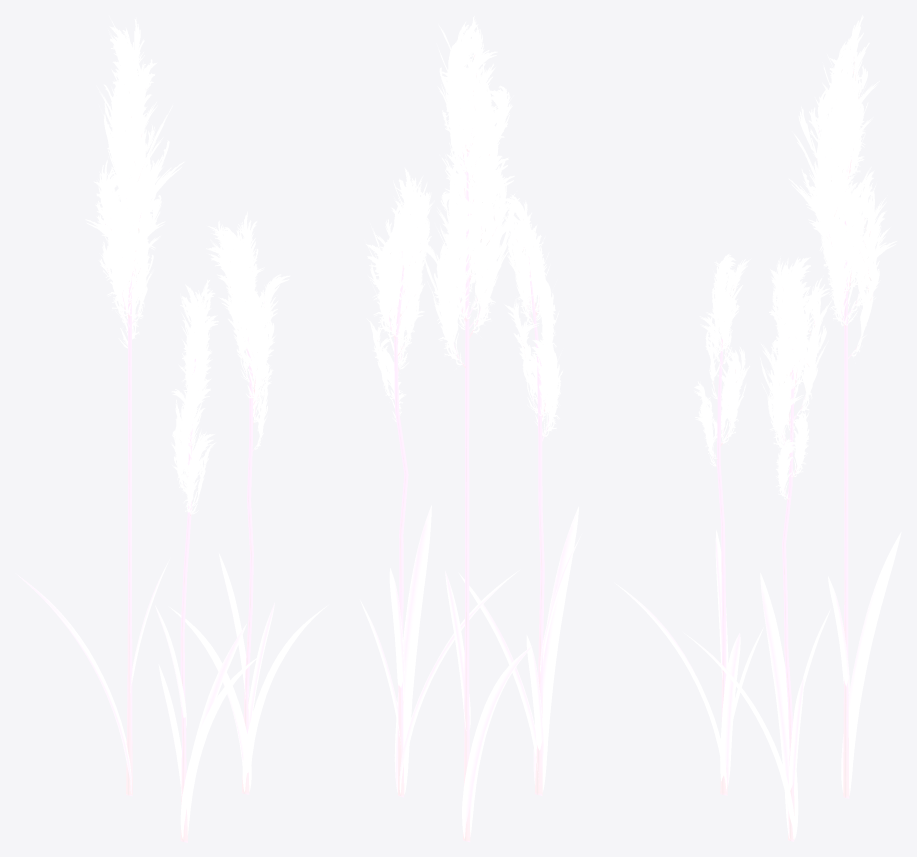
The picture shows the model from 3 angles, left to right: view 1: azimuth 30°, elevation 25°; view 2: azimuth 150°, elevation 25°; view 3: azimuth 270°, elevation 25°; orthographic projection. The views are drawn at different scales.
Visible parts, largest first — view 1: SM_LongGrass_02_LOD0; view 2: SM_LongGrass_02_LOD0; view 3: SM_LongGrass_02_LOD0.
Boxes of the visible parts, box(x1,y1,x2,y2) form: SM_LongGrass_02_LOD0: box(15, 16, 328, 842); SM_LongGrass_02_LOD0: box(360, 16, 581, 842); SM_LongGrass_02_LOD0: box(614, 15, 901, 841).
Size of the model in its own units: 0.5358 by 1.86 by 0.629.
1 material, 1 textured.
